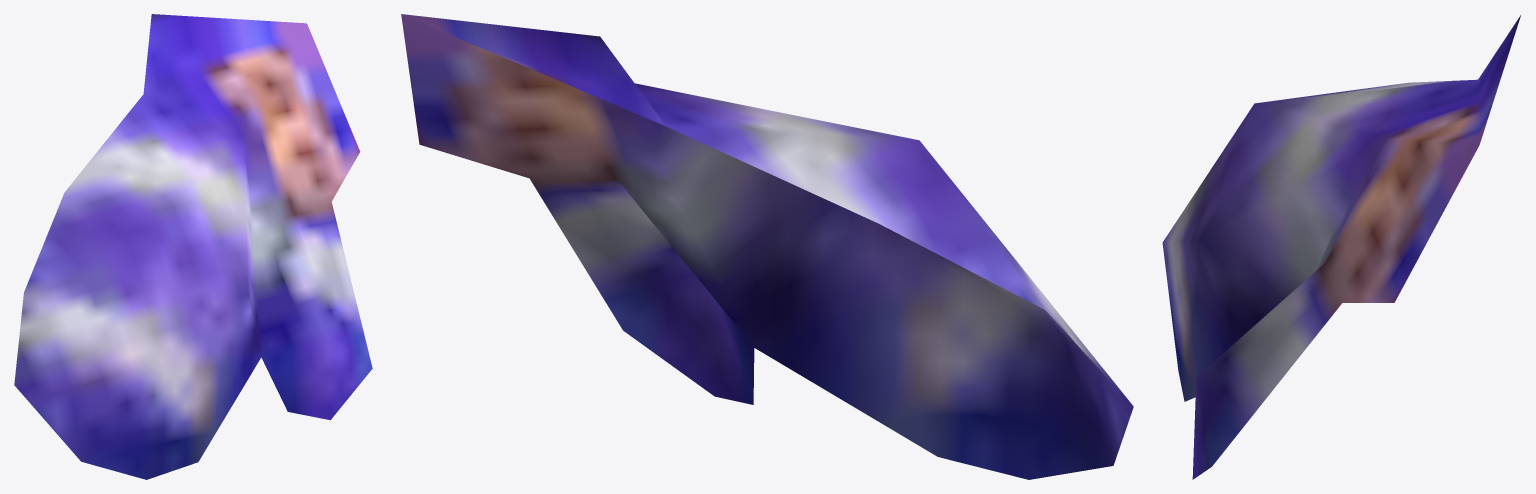
Rendered from fg_glove_out.dae.
3 renders of one model, left to right at view 1: azimuth 30°, elevation 25°; view 2: azimuth 150°, elevation 25°; view 3: azimuth 270°, elevation 25°, orthographic. The views are drawn at different scales.
Parts seen in each view (by area): view 1: fg_glove_out; view 2: fg_glove_out; view 3: fg_glove_out.
Boxes of the visible parts, x1,y1,x2,y2 form: fg_glove_out: (14,14,372,479); fg_glove_out: (401,14,1133,479); fg_glove_out: (1162,15,1520,479).
Bounding box in the file's own units: 15.87 × 12.97 × 9.51.
1 material, 1 textured.
